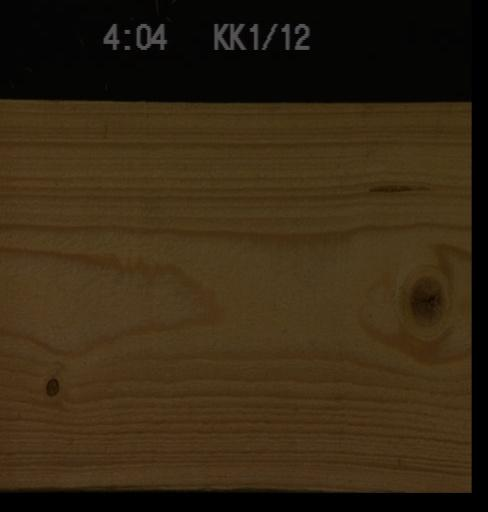dry_knot: (43, 374, 58, 395)
sound_knot: (405, 273, 445, 327)
